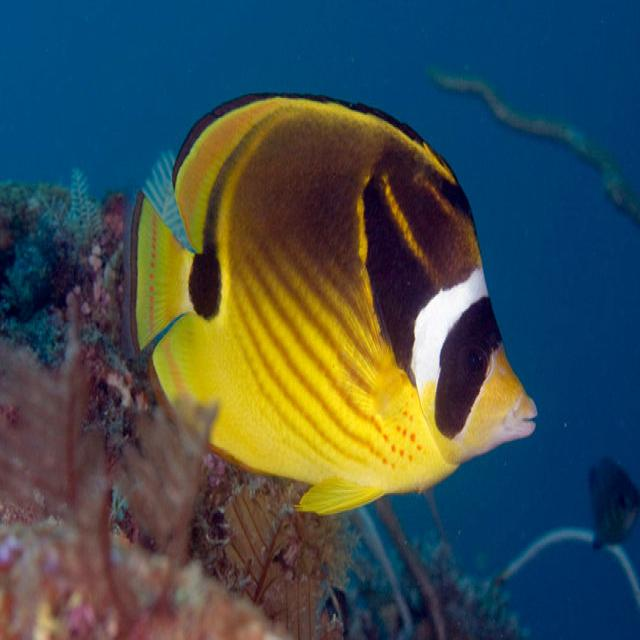ButterflyFish: (133, 93, 535, 519)
